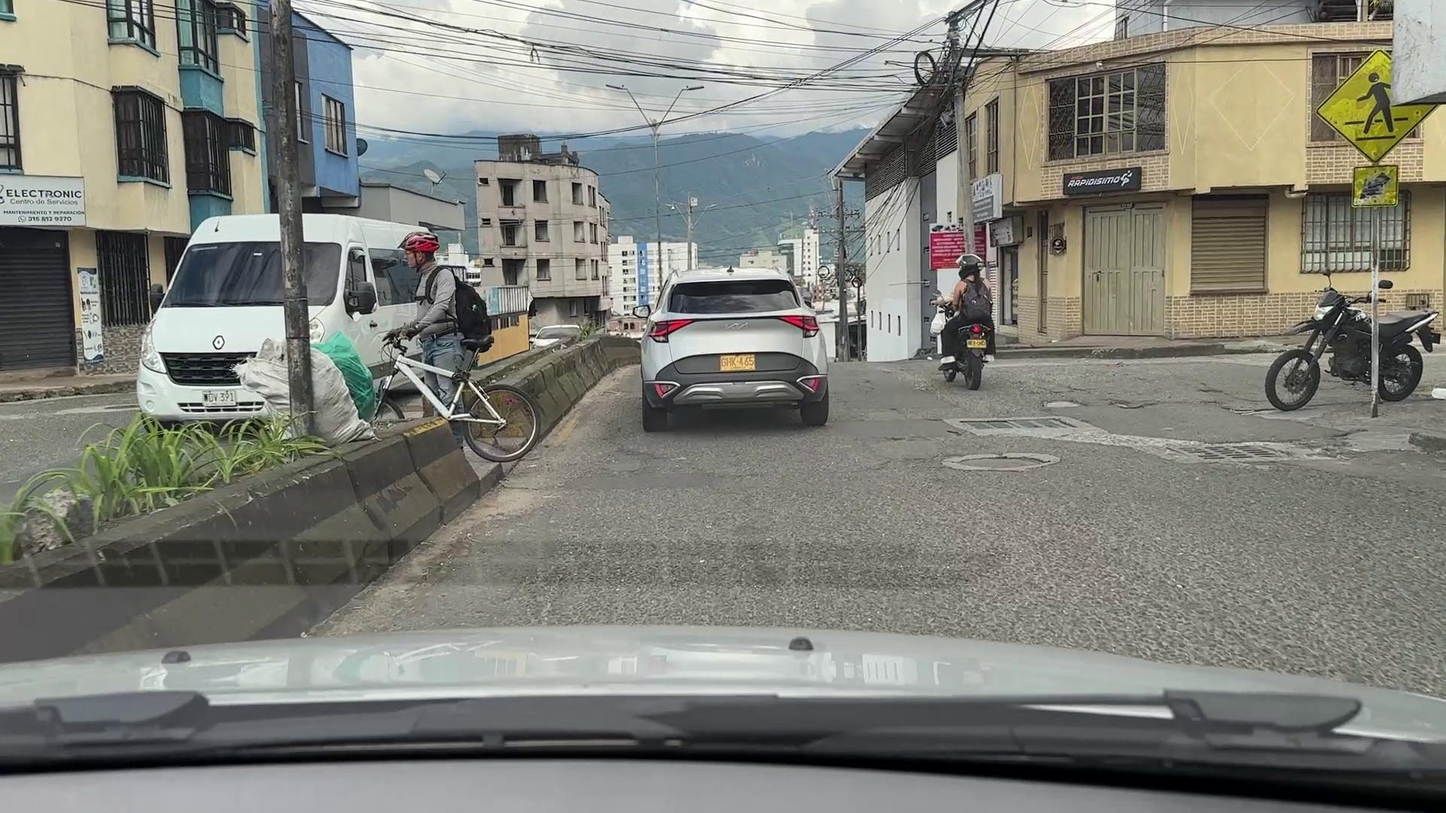bache: (1208, 401, 1277, 415), (1110, 400, 1160, 409), (1041, 400, 1086, 407)
registro: (960, 458, 1043, 468)
rejilla: (1169, 445, 1295, 463), (961, 419, 1075, 429)
